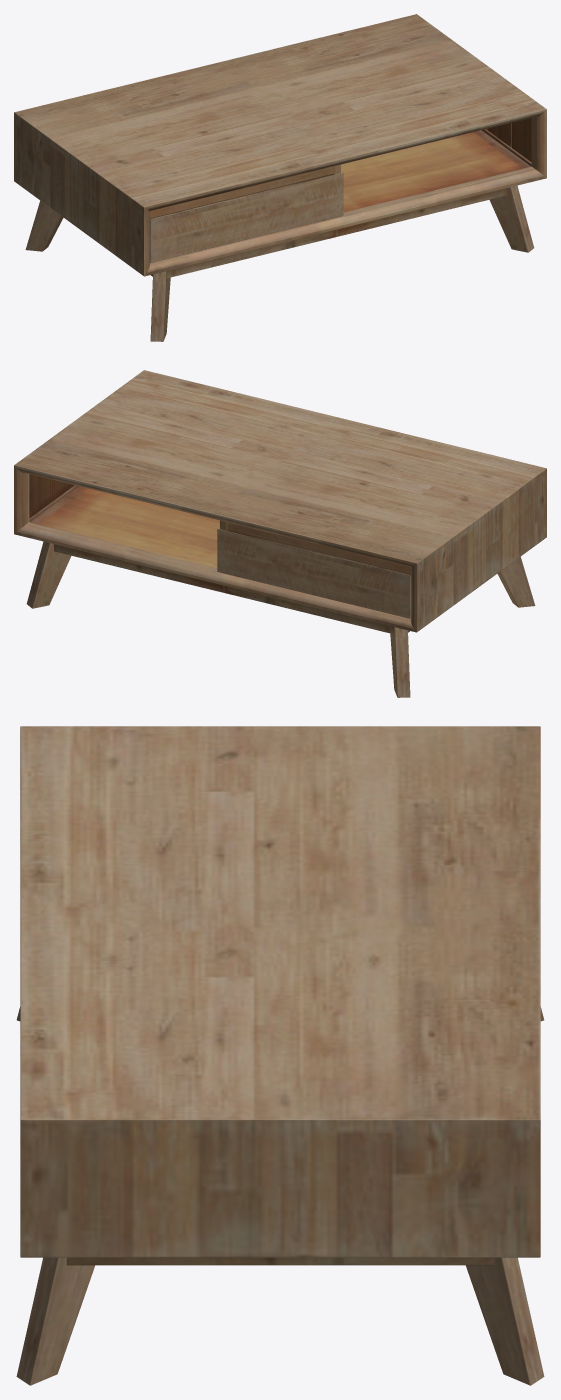
The model's file is B07HSMYNYF.glb.
3 renders of one model, top to bottom at view 1: azimuth 30°, elevation 25°; view 2: azimuth 150°, elevation 25°; view 3: azimuth 270°, elevation 25°, orthographic. The views are drawn at different scales.
Parts seen in each view (by area): view 1: RootNode; view 2: RootNode; view 3: RootNode.
Part boxes in pixels (box(x1,y1,x2,y2)): RootNode: box(14, 14, 546, 341); RootNode: box(14, 370, 546, 697); RootNode: box(16, 726, 544, 1385).
Bounding box in the file's own units: 1.62 × 0.5306 × 0.9179.
1 material, 1 textured.
